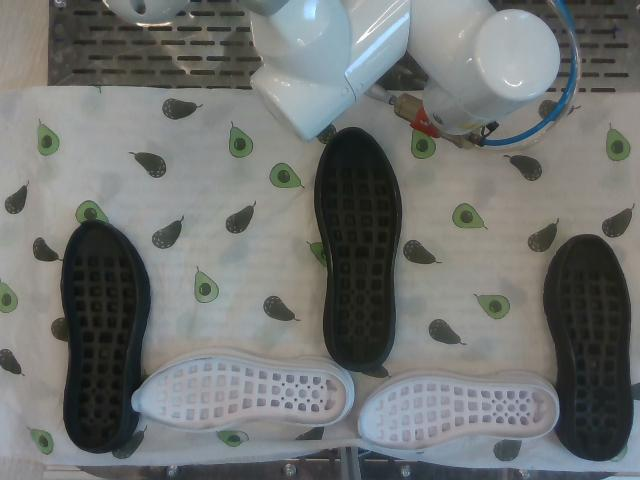shoes: (321, 130, 396, 364), (63, 222, 137, 448), (560, 237, 633, 460), (132, 357, 346, 430), (359, 379, 557, 450)
